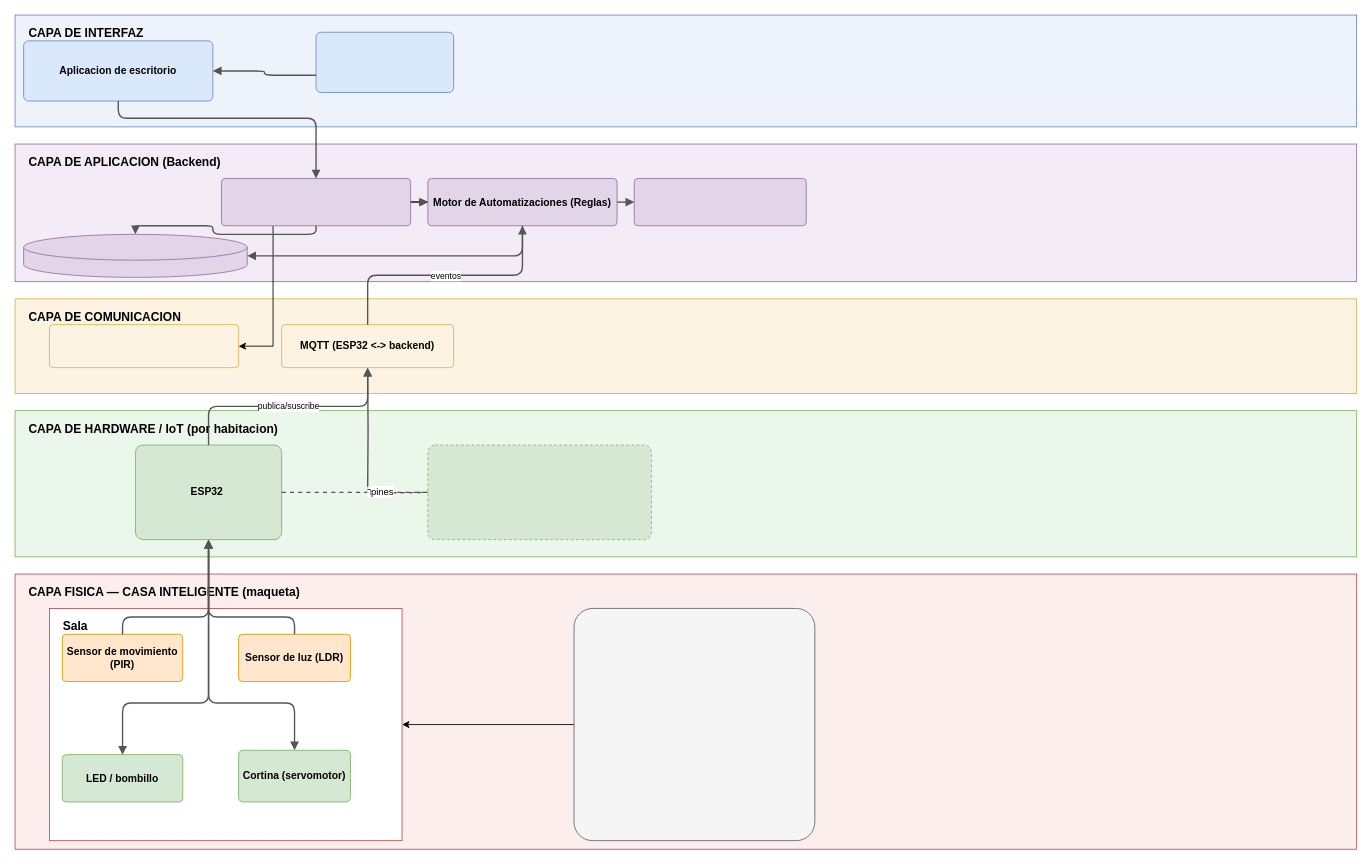
Some shapes in this 1372 by 864 pixel diagram are drawn without their labels. The centre of each missing label's shape, as x and y in pixels:
"Base de datos (usuarios, eventos, reglas)" belongs at [135,255].
"CASA INTELIGENTE" belongs at [694,724].
"GPIO / PWM / ADC (lectura y control)" belongs at [539,492].
"Logica de negocio (gestion dispositivos)" belongs at [316,202].
"Servicio de Notificaciones" belongs at [719,202].
"Usuario" belongs at [384,61].
"WI-FI/Bluetooth (config. local, opcional)" belongs at [144,346].
